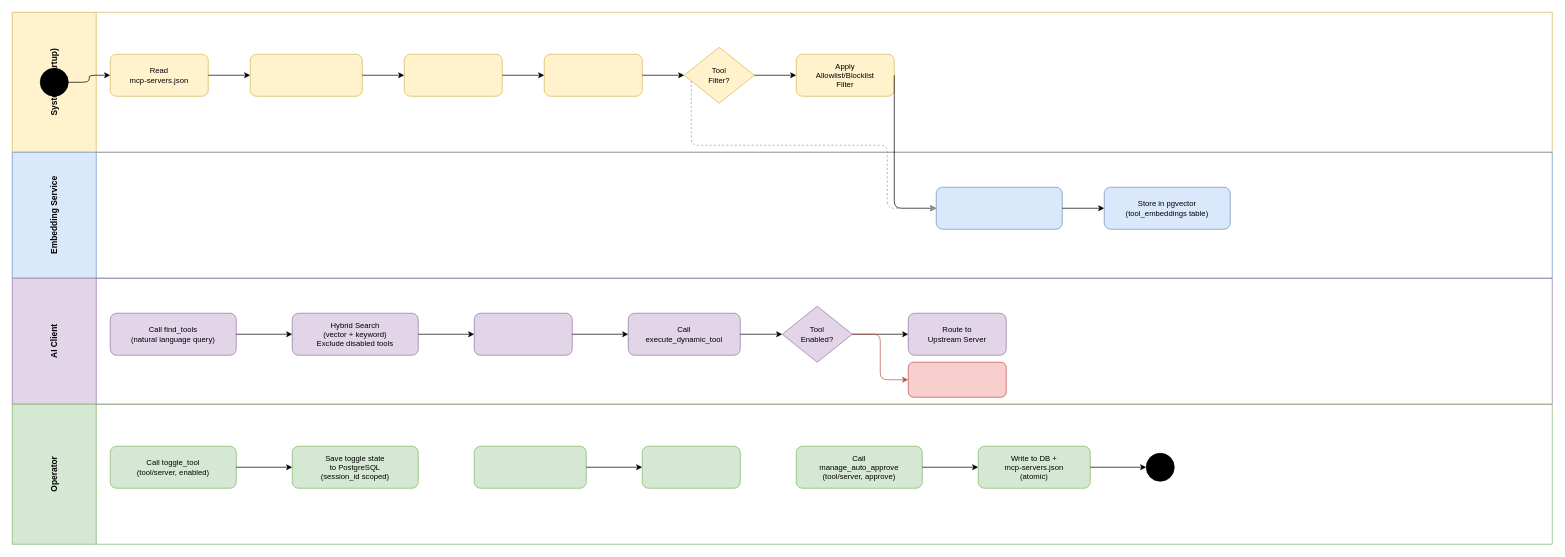
This 1565x557 diagram has some shape labels left out. Here are the shapes that lost their labels. From the top down, the centre of each, then its label:
the point at 306,75: Config-DB Sync (INSERT/UPDATE/ DEACTIVATE)
the point at 453,75: Connect to Upstream MCP Servers
the point at 593,75: Discover Tools (tools/list)
the point at 999,208: Generate Embeddings (Ollama / LMStudio)
the point at 523,334: Return ranked tool results
the point at 957,379: Return Error: Tool Disabled
the point at 530,467: Call reset_tools (optional: server, reindex)
the point at 691,467: Clear toggle states in DB
